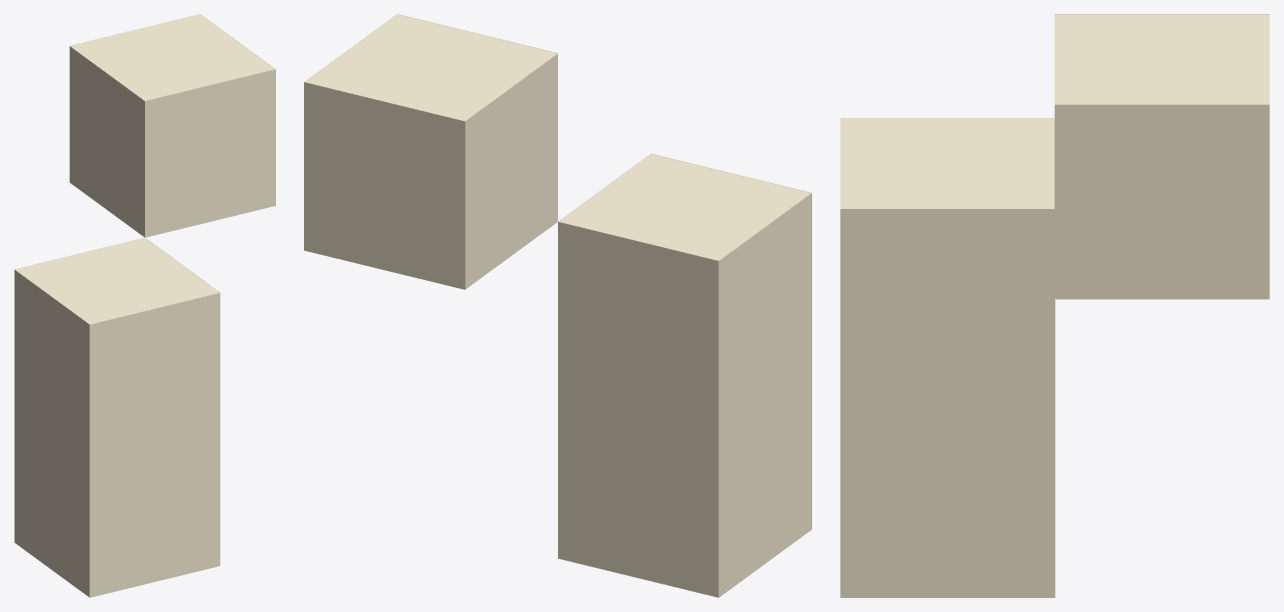
Rendered from Vampire Arm.obj.
3 views of the same model, side by side, from view 1: azimuth 30°, elevation 25°; view 2: azimuth 150°, elevation 25°; view 3: azimuth 270°, elevation 25° (orthographic). The views are drawn at different scales.
Parts seen in each view (by area): view 1: Vampire Arm; view 2: Vampire Arm; view 3: Vampire Arm.
Boxes of the visible parts, x1,y1,x2,y2 form: Vampire Arm: [14, 14, 275, 597]; Vampire Arm: [304, 14, 811, 597]; Vampire Arm: [840, 14, 1269, 597].
Bounding box in the file's own units: 2 × 3 × 2.
1 material, 1 textured.
